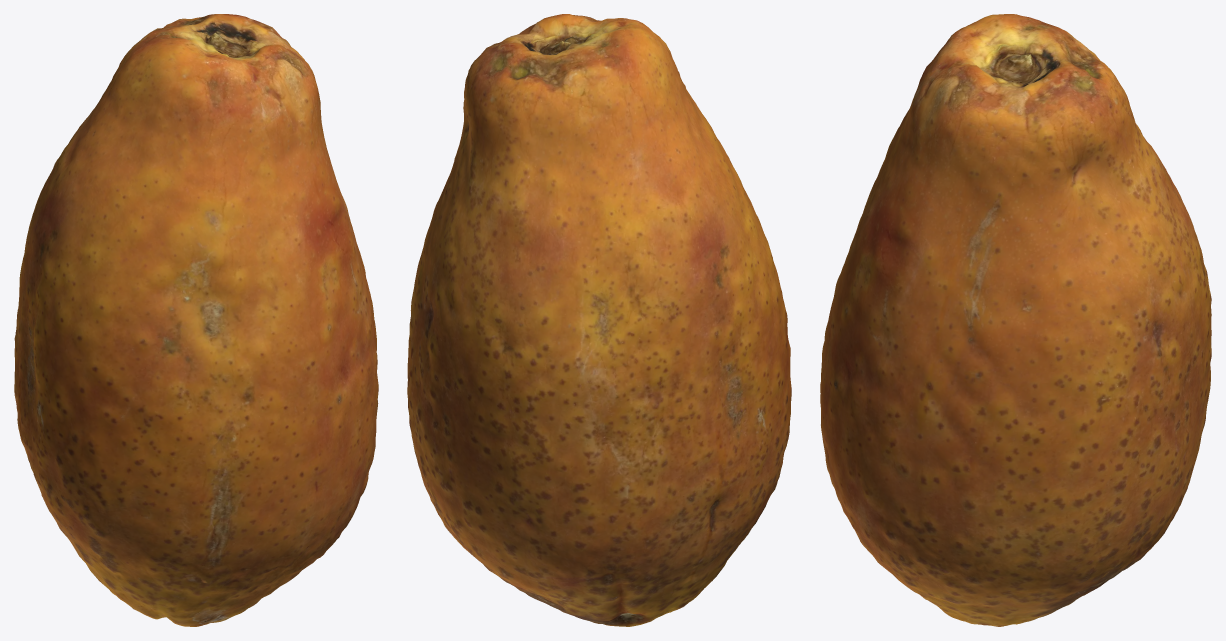
Rendered from papaya_fruit.glb.
The picture shows the model from 3 angles, left to right: view 1: azimuth 30°, elevation 25°; view 2: azimuth 150°, elevation 25°; view 3: azimuth 270°, elevation 25°; orthographic projection. The views are drawn at different scales.
Visible parts, largest first — view 1: papaja; view 2: papaja; view 3: papaja.
Part boxes in pixels (<box>): papaja: <box>14,14,378,626</box>; papaja: <box>407,14,791,626</box>; papaja: <box>820,14,1211,626</box>.
Size of the model in its own units: 0.1247 by 0.2169 by 0.1298.
Materials: 1 (1 with a texture image).
